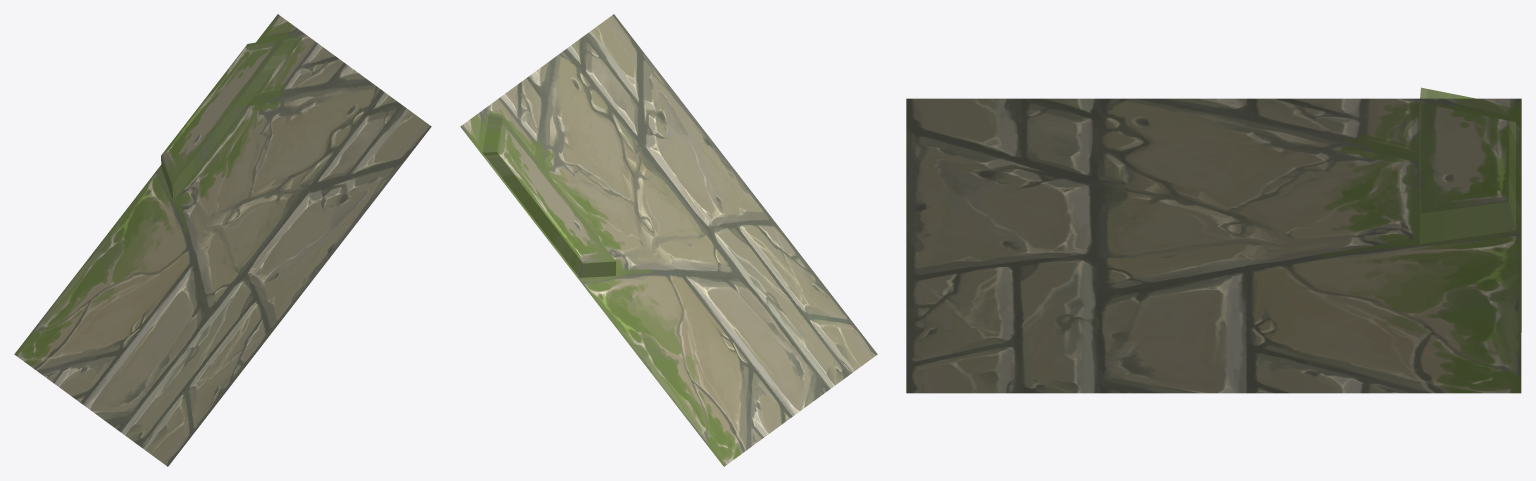
Rendered from diagonal_type3.fbx.
3 views of the same model, side by side, from view 1: azimuth 30°, elevation 25°; view 2: azimuth 150°, elevation 25°; view 3: azimuth 270°, elevation 25° (orthographic). The views are drawn at different scales.
Parts seen in each view (by area): view 1: diagonal1_v_cap8; view 2: diagonal1_v_cap8; view 3: diagonal1_v_cap8.
Part boxes in pixels (x1,y1,x2,y2): diagonal1_v_cap8: (14,14,431,466); diagonal1_v_cap8: (460,14,877,466); diagonal1_v_cap8: (906,87,1521,393).
Size of the model in its own units: 2 by 2 by 2.02.
